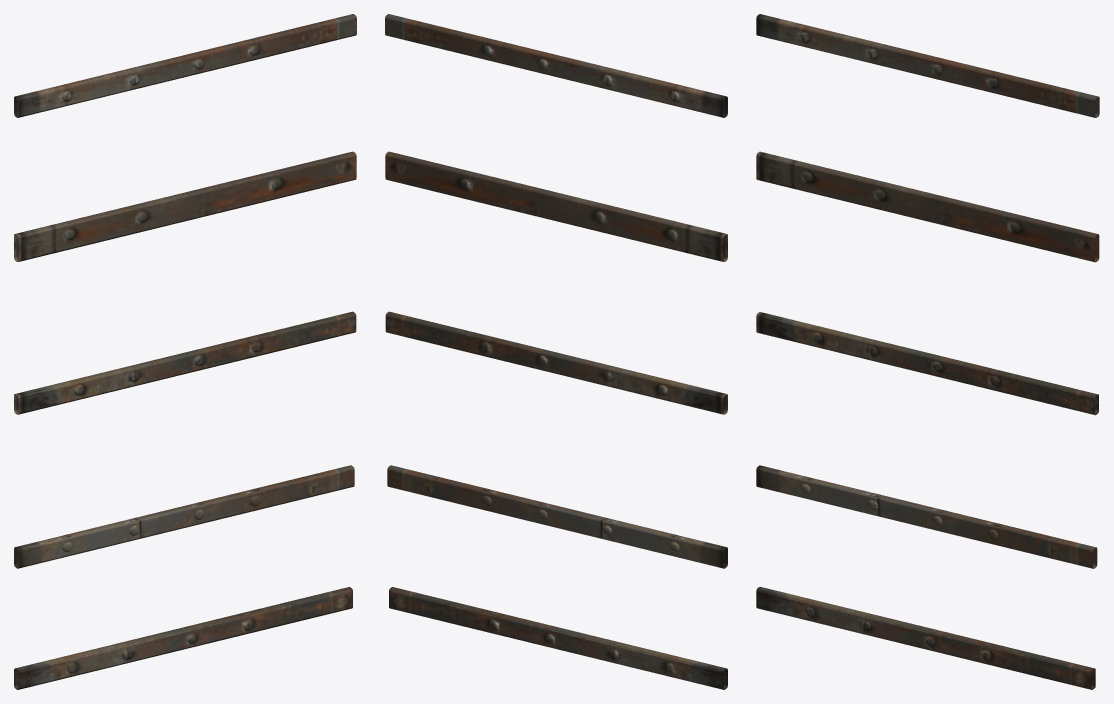
File: wall_013.glb
3 renders of one model, left to right at view 1: azimuth 30°, elevation 25°; view 2: azimuth 150°, elevation 25°; view 3: azimuth 330°, elevation 25°, orthographic.
Parts seen in each view (by area): view 1: Building_12_079; view 2: Building_12_079; view 3: Building_12_079.
Boxes of the visible parts, bbox=[...] form: Building_12_079: bbox=[14, 14, 356, 689]; Building_12_079: bbox=[385, 14, 727, 689]; Building_12_079: bbox=[756, 14, 1099, 689].
Bounding box in the file's own units: 1.2 × 2 × 0.0387.
1 material, 1 textured.
